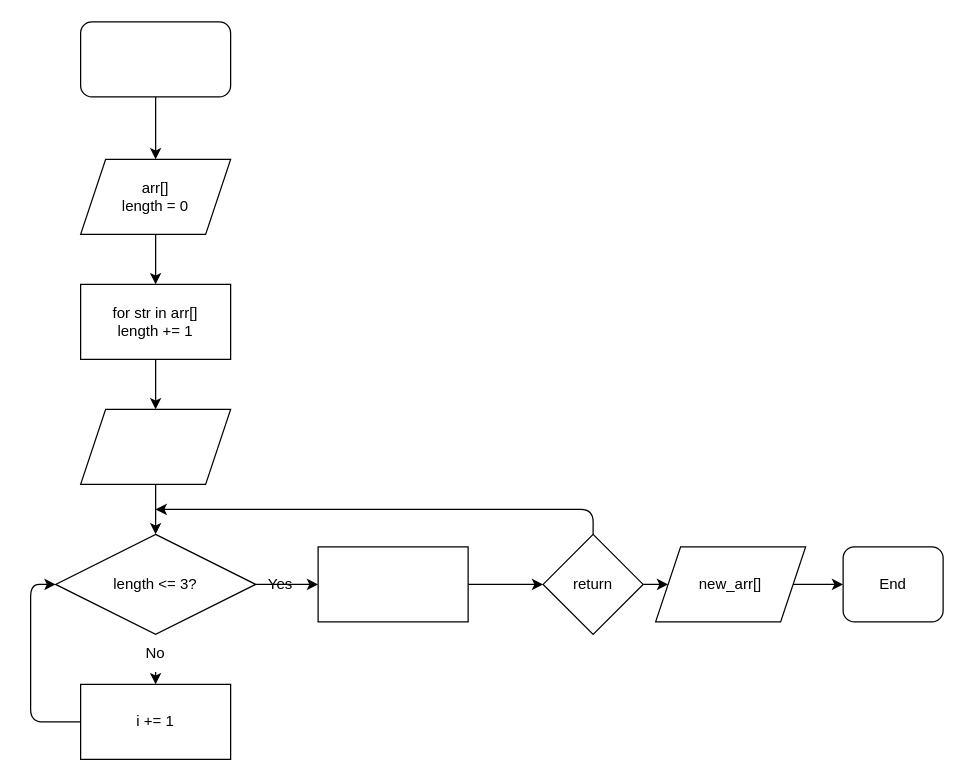
The diagram is 965 pixels wide and 781 high, and some of its shapes have lost their labels. Here are the shapes that lost their labels. From the top down, the centre of each, then its label:
point (155, 59): Start
point (155, 446): new_arr[] for str in arr[]
point (392, 584): input str in new_arr[]
